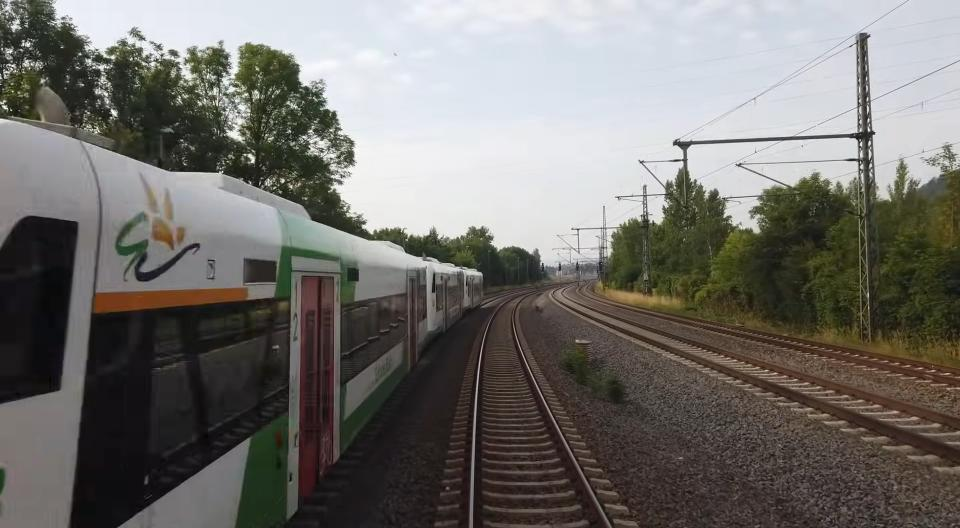Plant: (562, 344, 594, 385), (603, 375, 626, 403)
